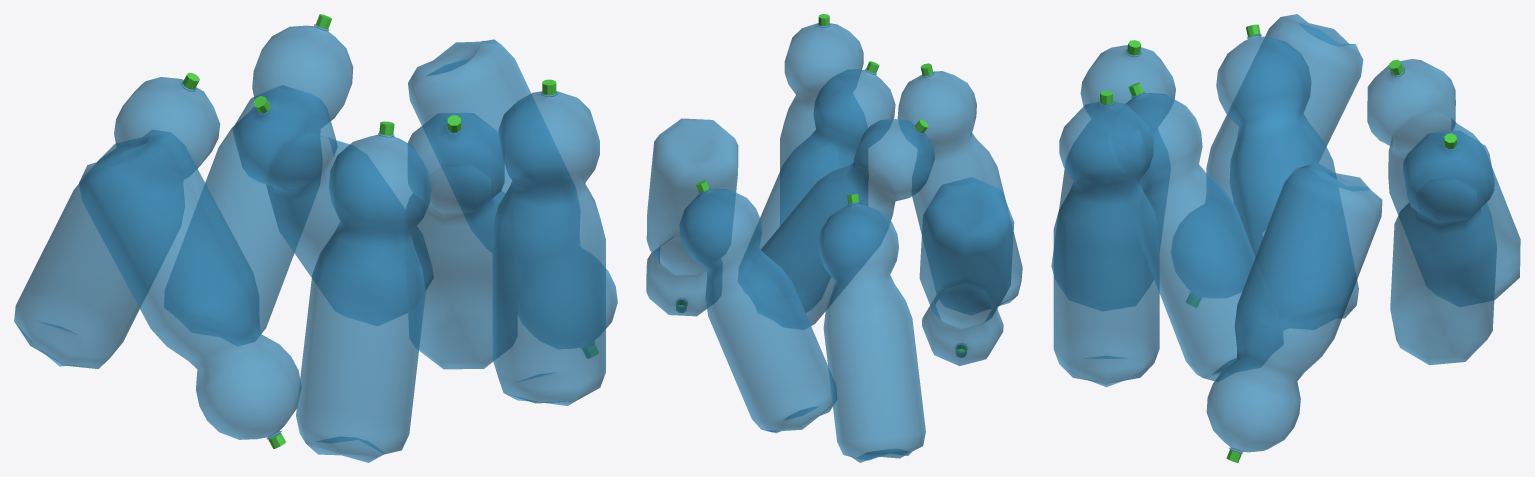
The model's file is Bottles.dae.
The picture shows the model from 3 angles, left to right: view 1: azimuth 30°, elevation 25°; view 2: azimuth 150°, elevation 25°; view 3: azimuth 270°, elevation 25°; orthographic projection. The views are drawn at different scales.
Parts seen in each view (by area): view 1: Circle_002, Circle_001, Circle, Circle_004, Circle_006, Circle_003, Circle_005, Circle_007; view 2: Circle_004, Circle_006, Circle_001, Circle_005, Circle_007, Circle_003, Circle_002, Circle; view 3: Circle_003, Circle_005, Circle, Circle_007, Circle_002, Circle_006, Circle_004, Circle_001.
Boxes of the visible parts, box(x1,y1,x2,y2) form: Circle_002: box(79, 129, 300, 448); Circle_001: box(296, 121, 431, 462); Circle: box(492, 79, 605, 405); Circle_004: box(164, 14, 353, 345); Circle_006: box(14, 72, 220, 368); Circle_003: box(408, 39, 617, 358); Circle_005: box(232, 85, 433, 325); Circle_007: box(405, 112, 517, 369); Circle_004: box(679, 180, 836, 433); Circle_006: box(818, 194, 925, 462); Circle_001: box(897, 63, 1022, 314); Circle_005: box(743, 119, 934, 329); Circle_007: box(738, 61, 895, 312); Circle_003: box(646, 118, 738, 316); Circle_002: box(919, 177, 1014, 366); Circle: box(780, 14, 867, 225); Circle_003: box(1206, 162, 1382, 462); Circle_005: box(1216, 24, 1358, 329); Circle: box(1053, 90, 1159, 387); Circle_007: box(1109, 82, 1282, 381); Circle_002: box(1171, 14, 1363, 307); Circle_006: box(1367, 59, 1520, 306); Circle_004: box(1390, 130, 1496, 365); Circle_001: box(1051, 40, 1175, 310).
Size of the model in its own units: 3.85 by 3.55 by 2.71.
